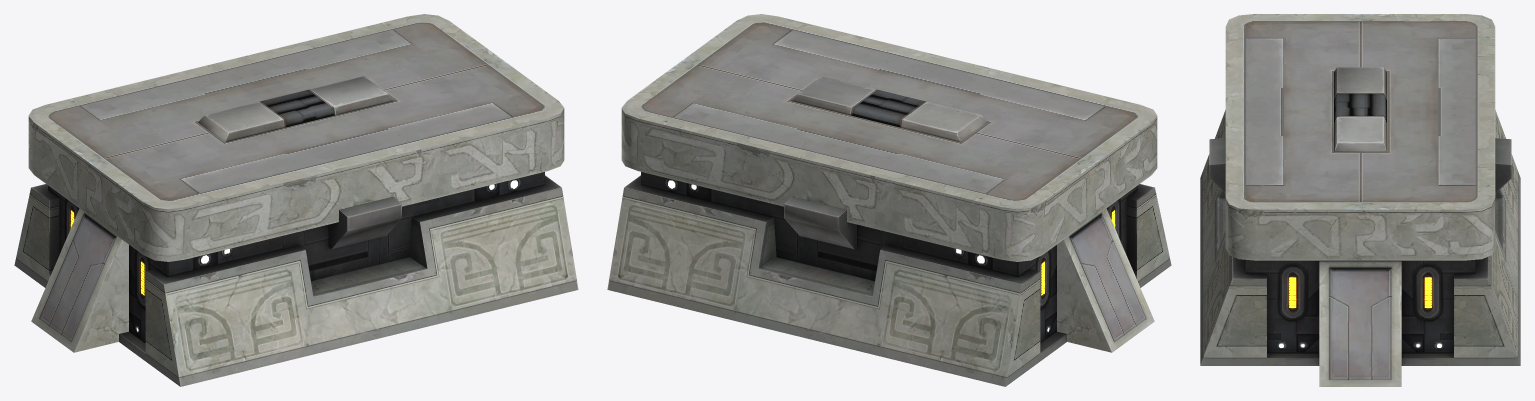
Rendered from bel_arch_rakata_cover_object01.glb.
3 renders of one model, left to right at view 1: azimuth 30°, elevation 25°; view 2: azimuth 150°, elevation 25°; view 3: azimuth 270°, elevation 25°, orthographic. The views are drawn at different scales.
Parts seen in each view (by area): view 1: bel_arch_rakata_cover_object01; view 2: bel_arch_rakata_cover_object01; view 3: bel_arch_rakata_cover_object01.
Boxes of the visible parts, x1=… form: bel_arch_rakata_cover_object01: x1=14, y1=14, x2=578, y2=386; bel_arch_rakata_cover_object01: x1=607, y1=14, x2=1171, y2=386; bel_arch_rakata_cover_object01: x1=1200, y1=14, x2=1520, y2=386.
Size of the model in its own units: 0.3078 by 0.1044 by 0.1814.
1 material, 1 textured.
